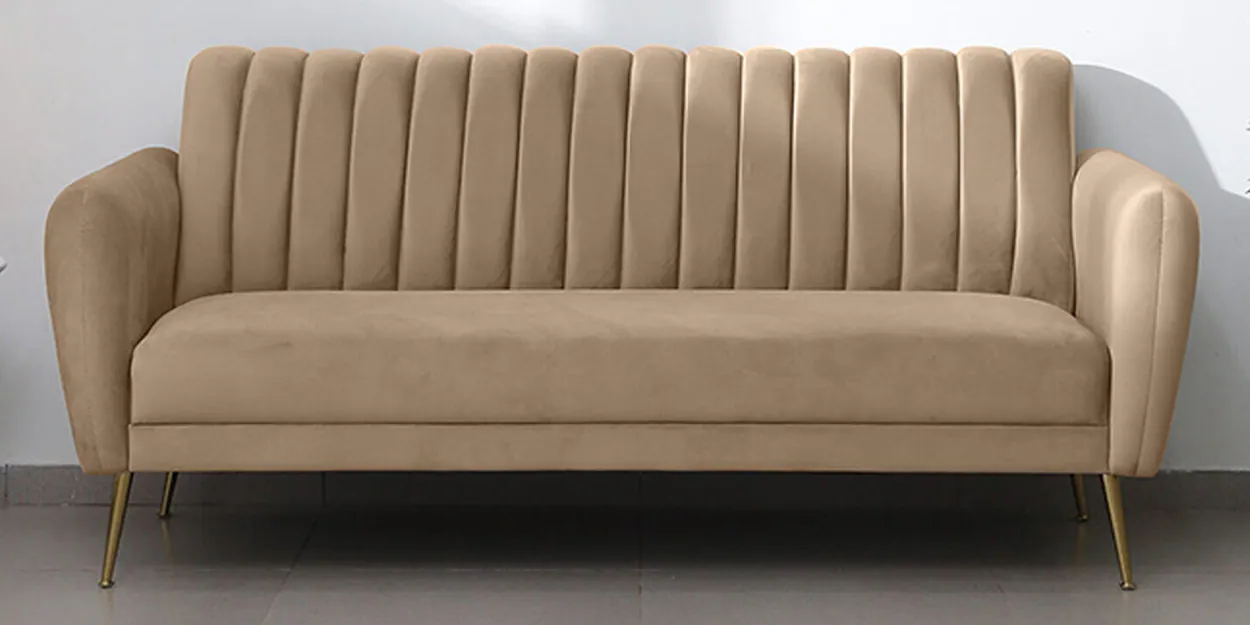3seatersofa: (45, 45, 1200, 589)
backrest: (175, 46, 1074, 307)
base: (129, 425, 1097, 472)
leftarmrest: (1071, 148, 1200, 475)
leg: (99, 471, 132, 588), (1102, 475, 1135, 590), (158, 472, 177, 518), (1071, 474, 1088, 522)
rightarmrest: (46, 148, 180, 472)
seat: (132, 292, 1109, 426)
